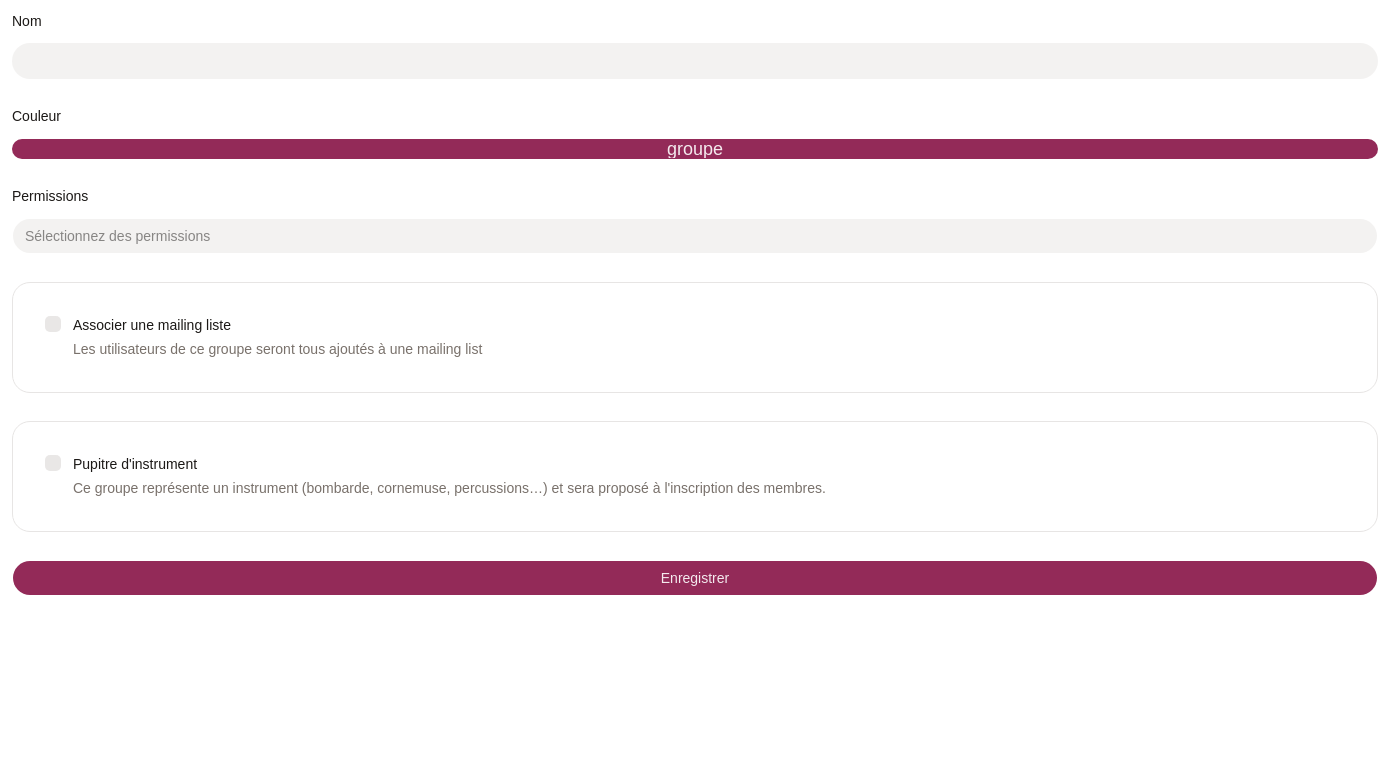
Test: GroupForm › does not submit when the required name is missing
Click the button "Enregistrer" at (695, 578), box 12,560 -> 1378,596
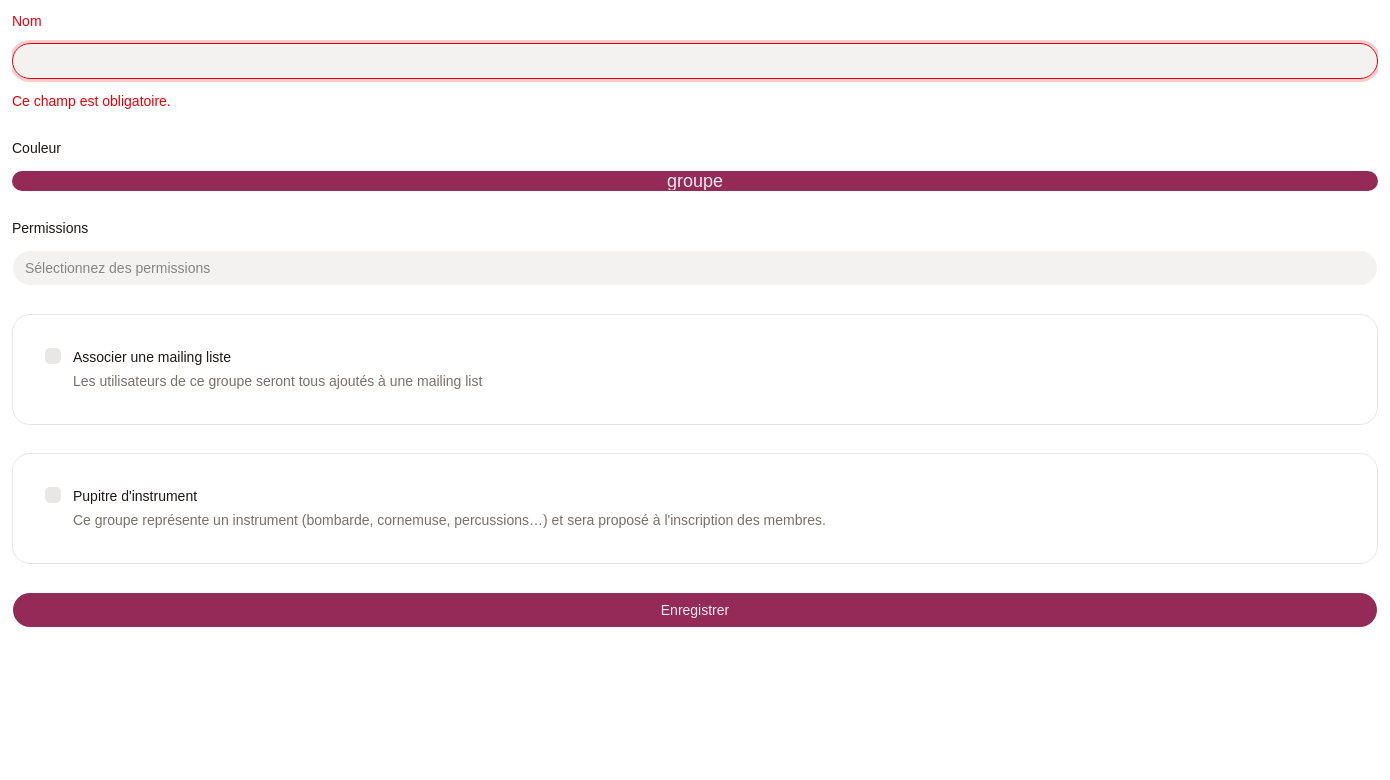
Now the text "Ce champ est obligatoire." is shown, box 12,93 -> 171,109
